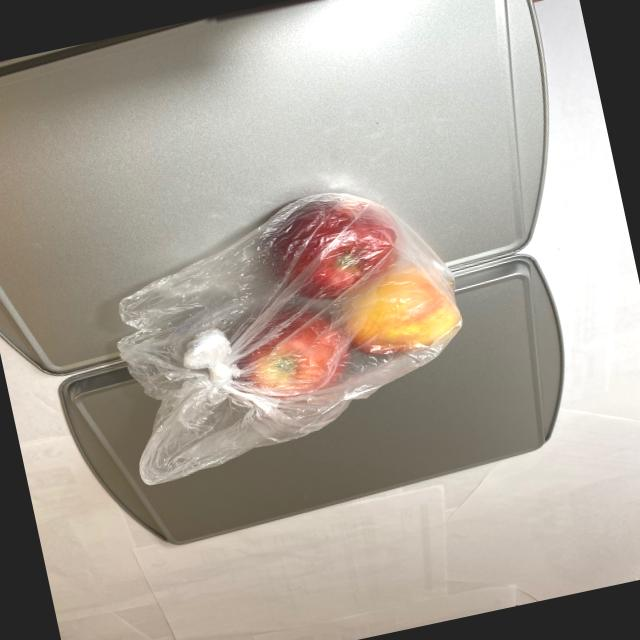apple: (198, 164, 476, 419)
